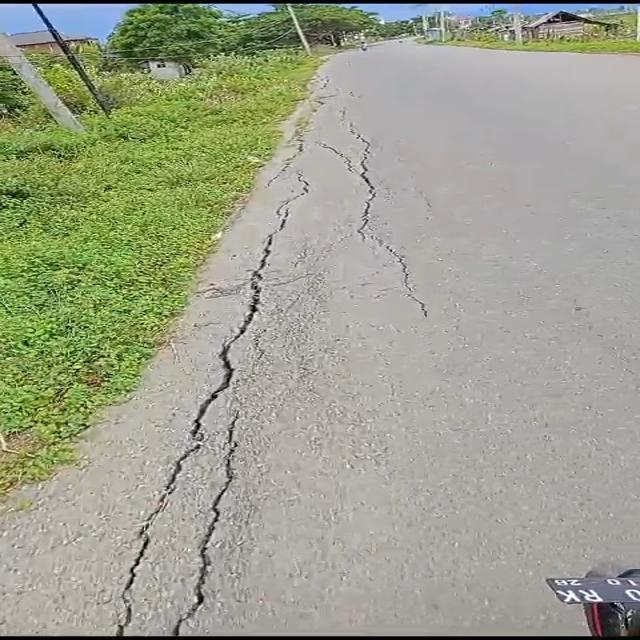Memanjang: (101, 193, 313, 636), (325, 110, 448, 329), (147, 409, 249, 640)
